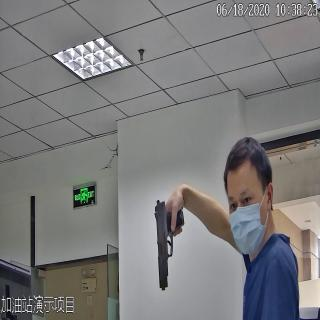gun: (150, 193, 185, 288)
